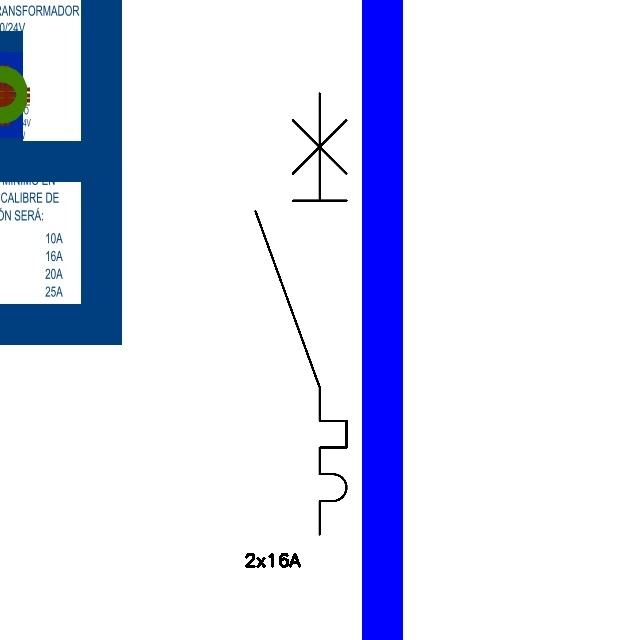interruptor_termomagnetico: (244, 82, 358, 546)
